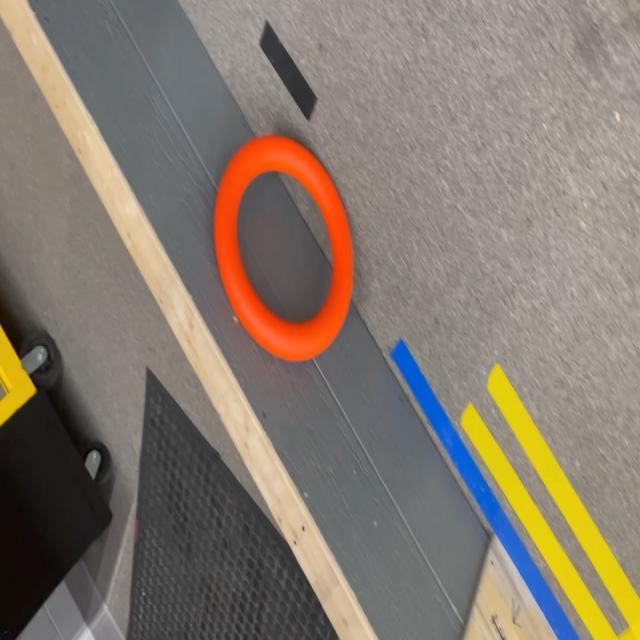note: (214, 133, 353, 361)
